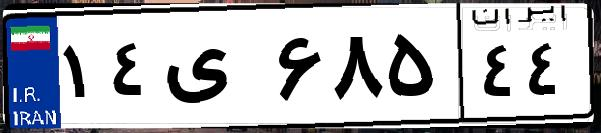1: (57, 26, 110, 100)
4: (475, 38, 525, 113), (525, 38, 570, 115), (110, 28, 158, 98)
5: (385, 28, 445, 110)
6: (270, 28, 330, 110)
8: (330, 28, 385, 110)
ی: (158, 20, 270, 120)
